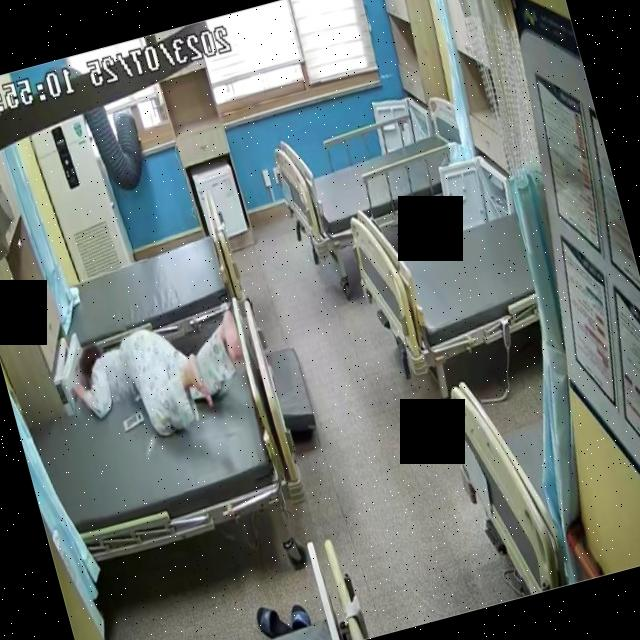bed: (21, 347, 292, 576), (339, 170, 552, 385), (272, 92, 482, 257), (44, 206, 250, 370)
danger: (64, 283, 261, 463)
patient: (64, 284, 260, 463)
